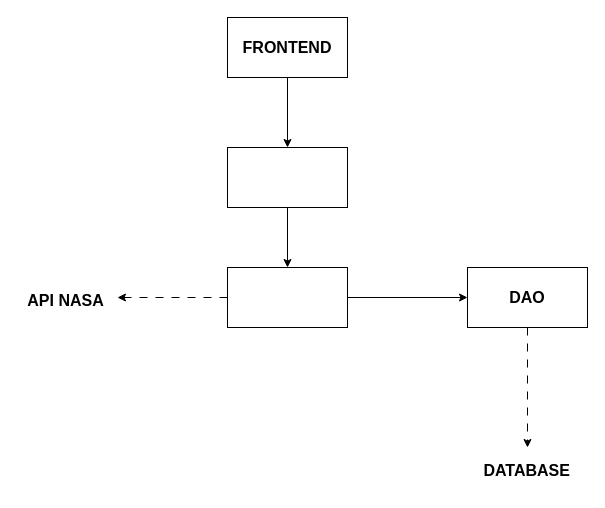
This 605x508 diagram has some shape labels left out. Each missing label, with the centre of its shape:
"CONTROLLER" goes at point (287, 177).
"SERVICE LAYER" goes at point (287, 297).
